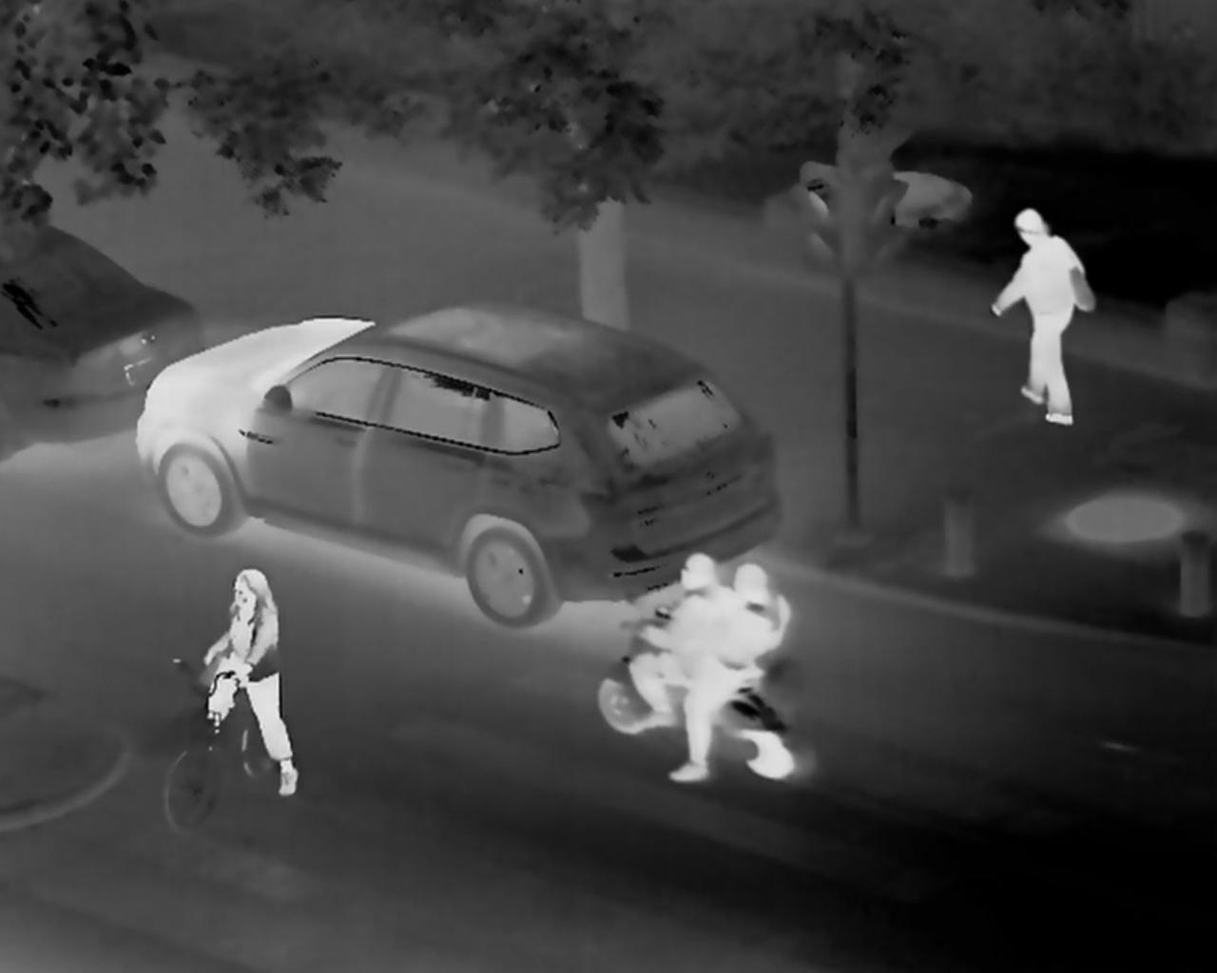person: (672, 555, 788, 788), (984, 200, 1093, 430), (197, 563, 302, 799), (626, 548, 727, 727)
